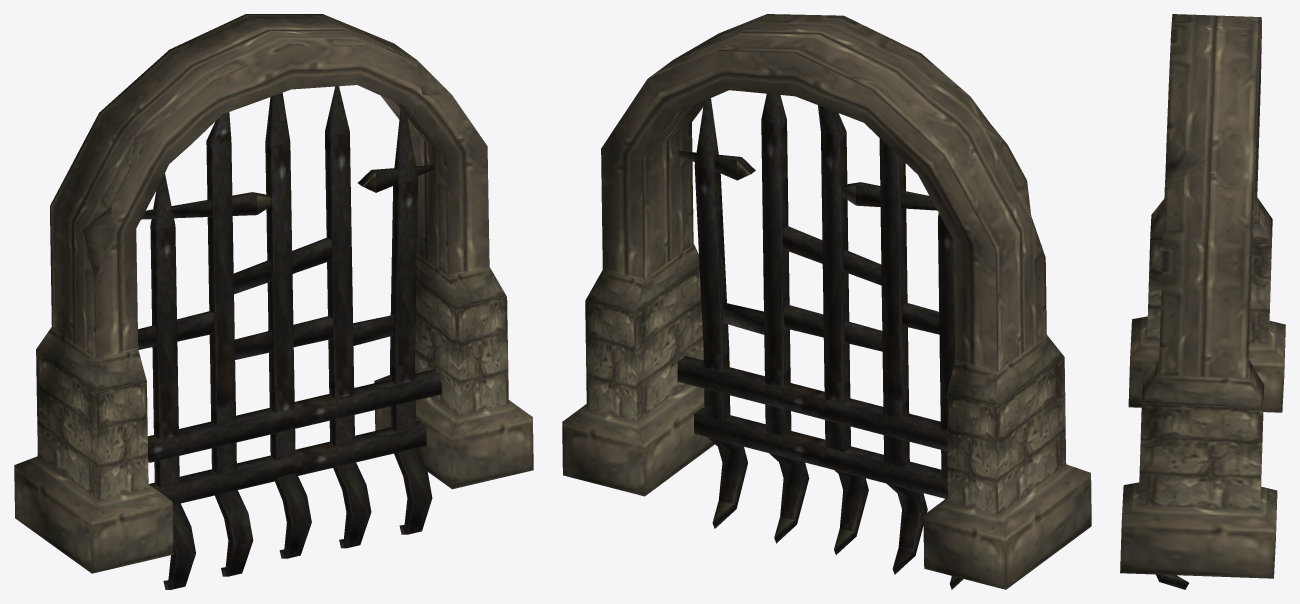
The model's file is S_Build_Forest033.FBX.
3 renders of one model, left to right at view 1: azimuth 30°, elevation 25°; view 2: azimuth 150°, elevation 25°; view 3: azimuth 270°, elevation 25°, orthographic. The views are drawn at different scales.
Parts seen in each view (by area): view 1: S_Build_Forest033; view 2: S_Build_Forest033; view 3: S_Build_Forest033.
Part boxes in pixels (<box>): S_Build_Forest033: <box>14,14,533,589</box>; S_Build_Forest033: <box>562,14,1091,589</box>; S_Build_Forest033: <box>1120,14,1285,589</box>.
Size of the model in its own units: 565 by 192 by 642.
